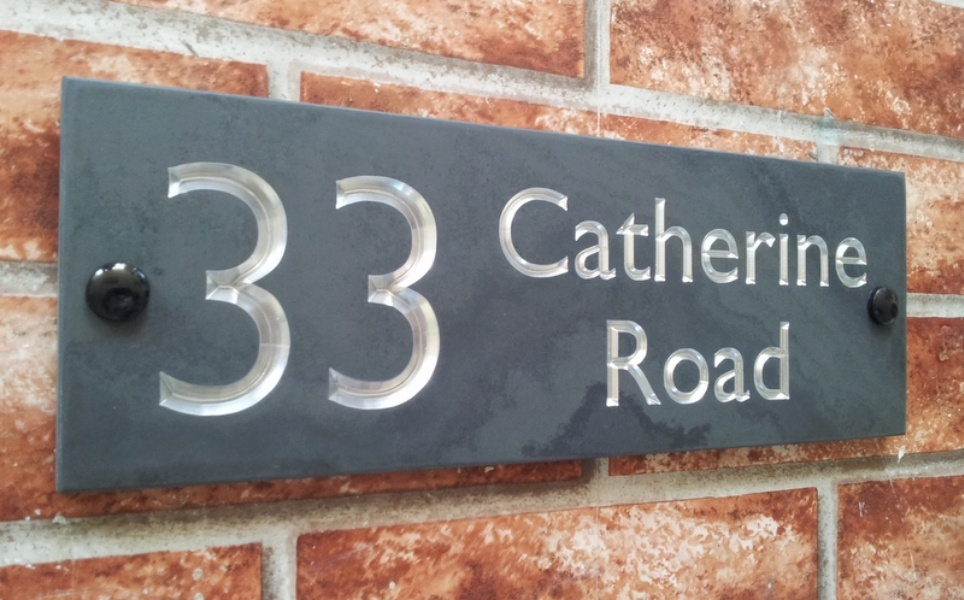text: (177, 156, 192, 421), (193, 156, 208, 421), (209, 156, 224, 421), (225, 156, 240, 421), (241, 156, 256, 421), (257, 156, 272, 421), (273, 156, 288, 421), (289, 156, 304, 421), (305, 156, 320, 421), (321, 156, 336, 421), (337, 156, 352, 421), (353, 156, 368, 421), (369, 156, 384, 421), (385, 156, 400, 421), (401, 156, 416, 421), (417, 156, 432, 421), (433, 156, 443, 421), (167, 156, 176, 421), (497, 182, 512, 292), (513, 182, 528, 292), (529, 182, 544, 292), (545, 182, 560, 292), (561, 182, 576, 292), (577, 182, 592, 292), (593, 182, 608, 292), (609, 182, 624, 292), (625, 182, 640, 292), (641, 182, 656, 292), (657, 182, 672, 292), (673, 182, 688, 292), (689, 182, 704, 292), (705, 182, 720, 292), (721, 182, 736, 292), (737, 182, 752, 292), (753, 182, 768, 292), (769, 182, 784, 292), (785, 182, 800, 292), (801, 182, 816, 292), (817, 182, 832, 292), (833, 182, 848, 292), (849, 182, 864, 292), (609, 316, 624, 411), (625, 316, 640, 411), (641, 316, 656, 411), (657, 316, 672, 411), (673, 316, 688, 411), (689, 316, 704, 411), (705, 316, 720, 411), (721, 316, 736, 411), (737, 316, 752, 411), (753, 316, 768, 411), (769, 316, 784, 411), (785, 316, 793, 411), (865, 182, 869, 292), (604, 316, 608, 411)
